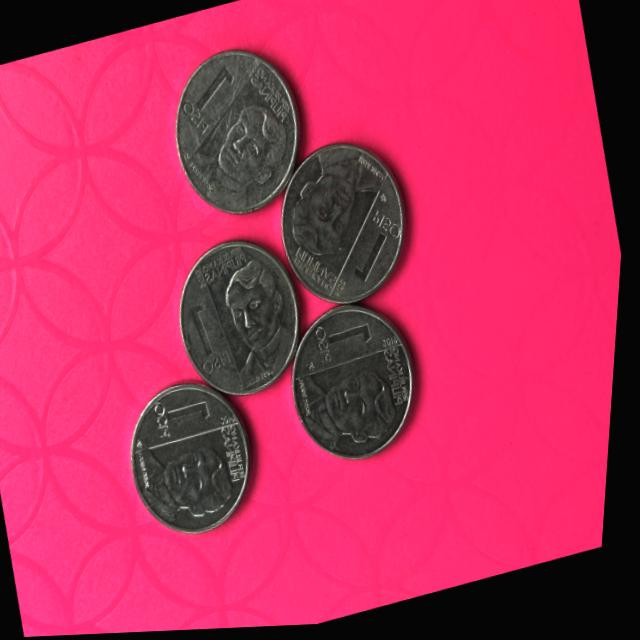1_New_Front: (337, 207, 415, 302), (175, 60, 260, 141), (181, 288, 247, 386), (143, 378, 224, 450), (305, 314, 389, 382)
